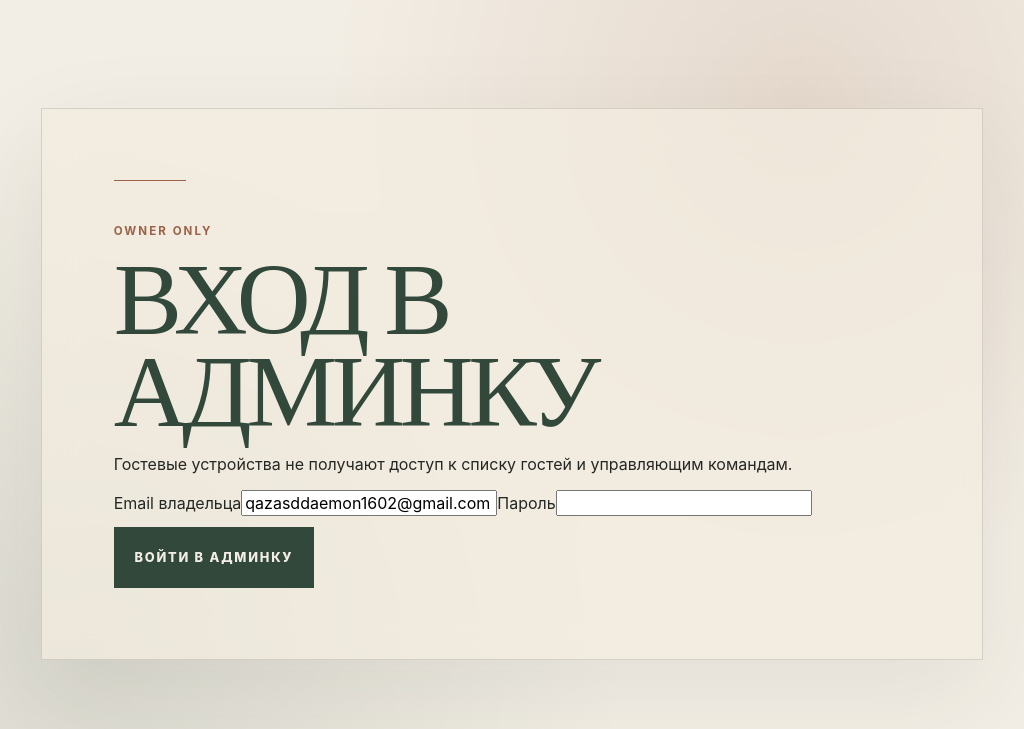
it: AdminPage › signs in and opens the owner dashboard after Supabase returns the new owner session
Expected: the button "ВОЙТИ В АДМИНКУ" is shown, [114, 527, 314, 588]
Step 1. Clear the field labelled "Email владельца" → (369, 503), box [241, 490, 497, 516]
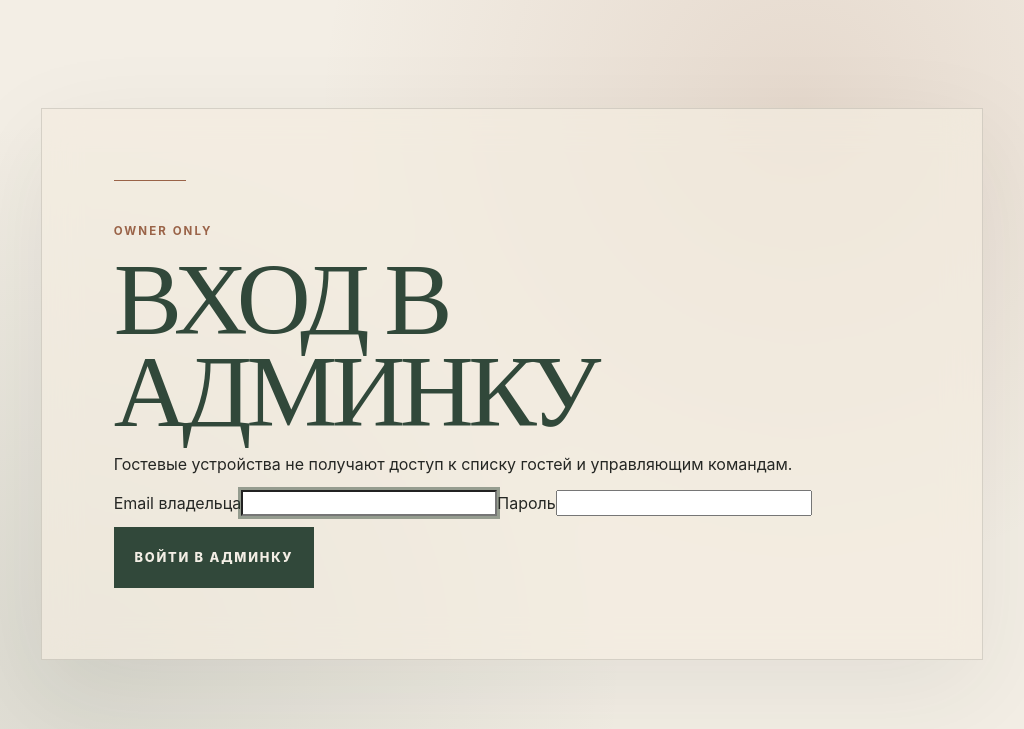
Step 2. Type "ilya@example.test" into the field labelled "Email владельца" → (369, 503), box [241, 490, 497, 516]
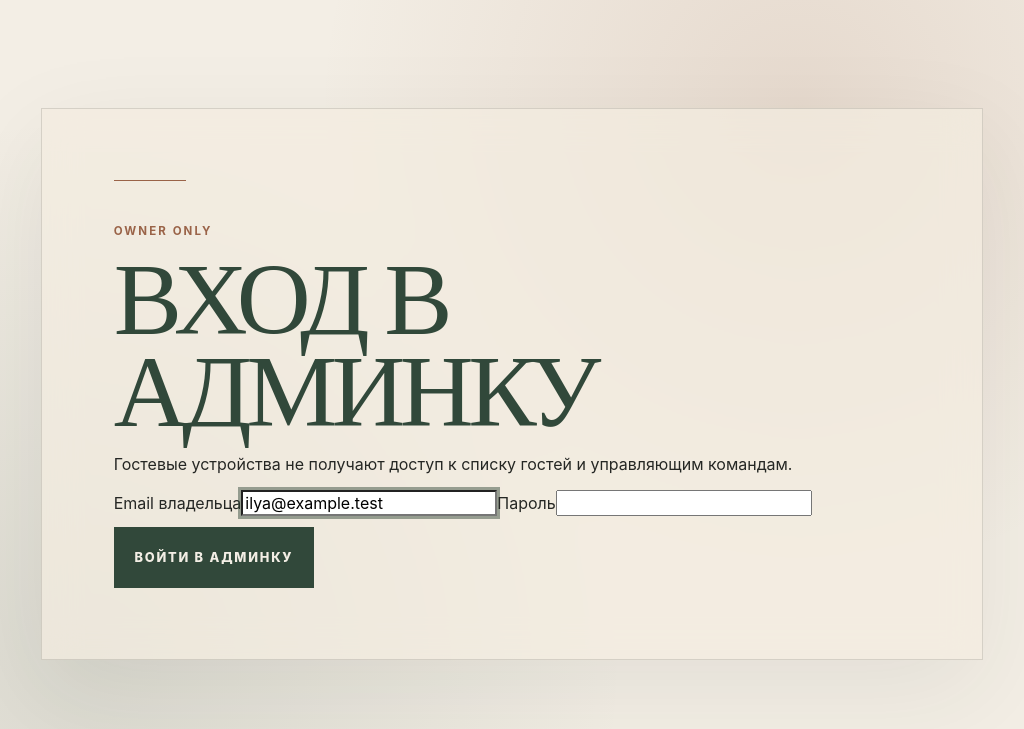
Step 3. Type "secret-password" into the password field labelled "Пароль" → (684, 503), box [556, 490, 812, 516]
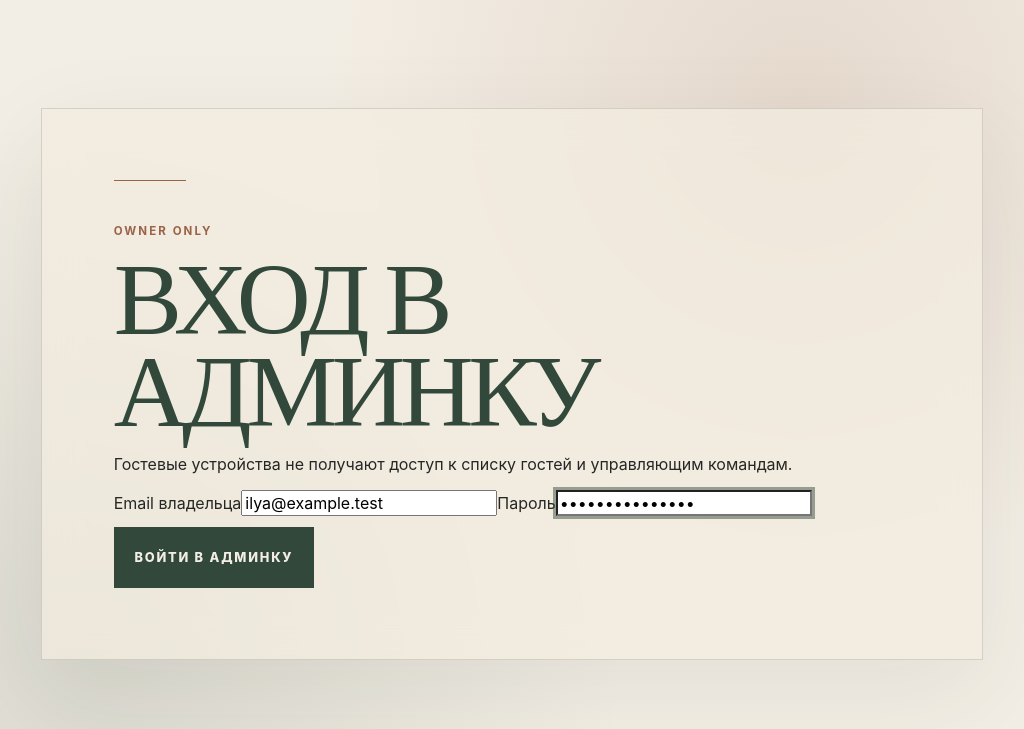
Step 4. Click the button "ВОЙТИ В АДМИНКУ" → (214, 557), box [114, 527, 314, 588]
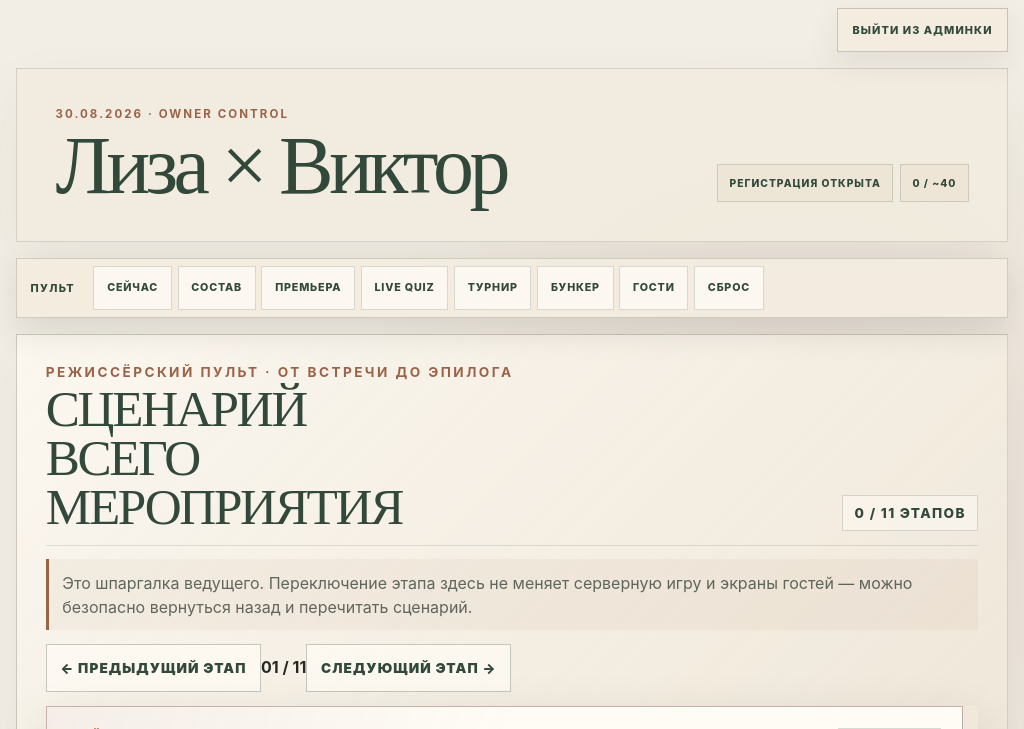
Expected: the heading "Лиза × Виктор" is shown, [55, 129, 506, 202]
